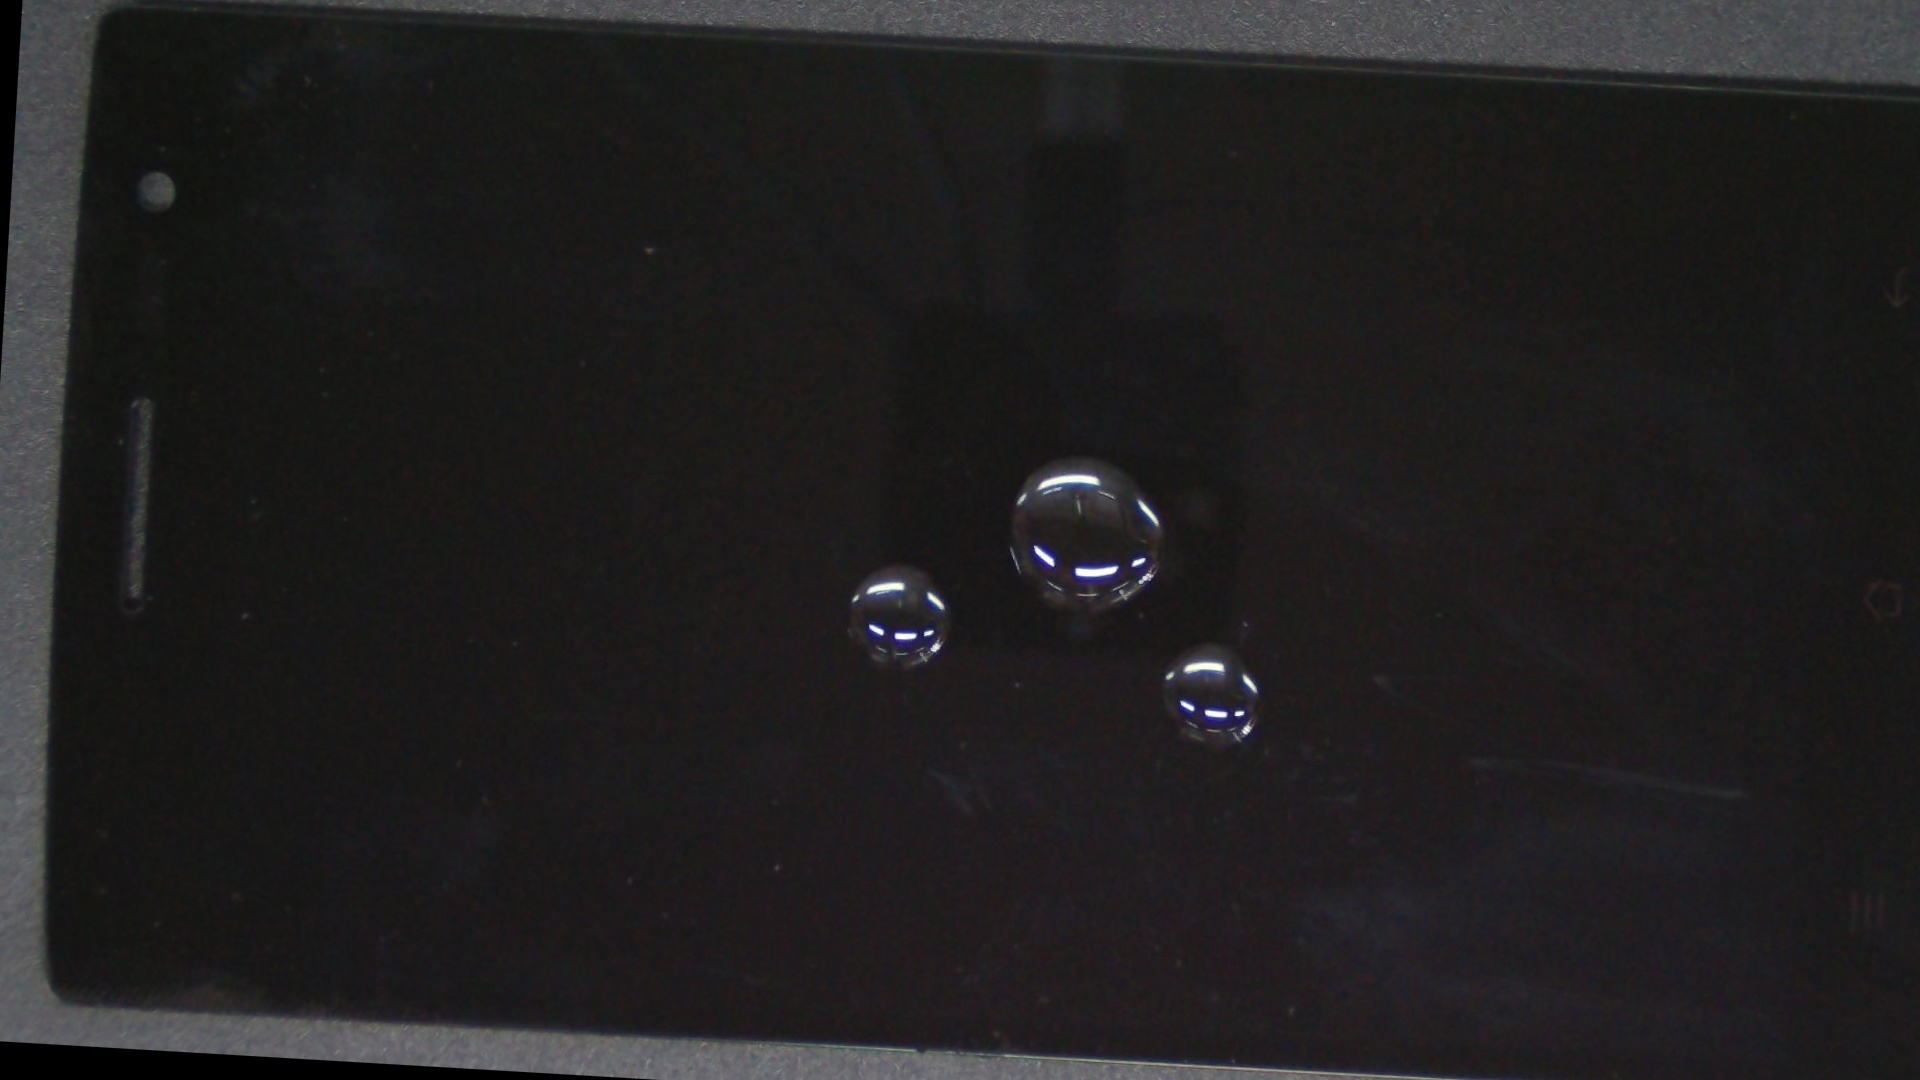oil: (579, 237, 1844, 1048), (425, 199, 1367, 931), (518, 144, 1621, 769)
